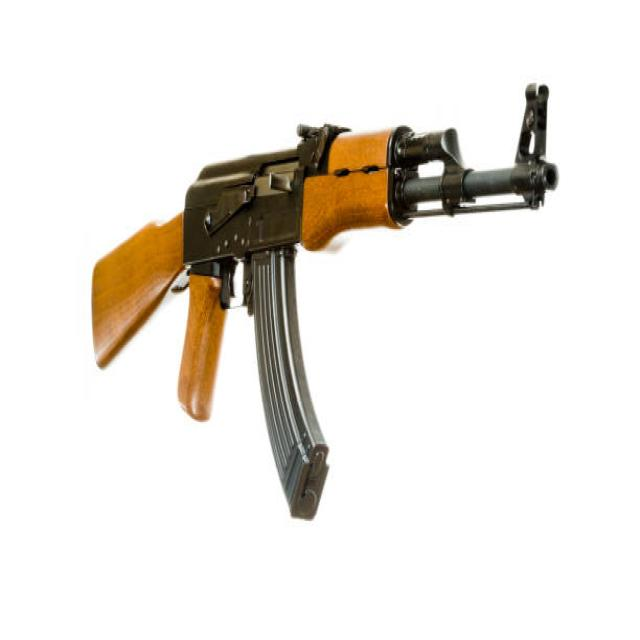rifle: (90, 61, 565, 547)
